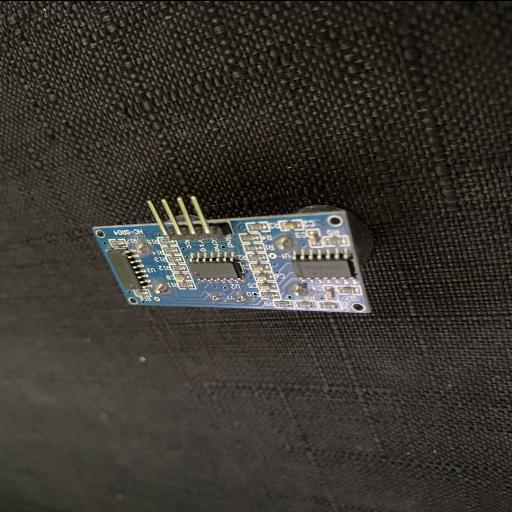Ultrasonic Sensor: (92, 192, 374, 314)
